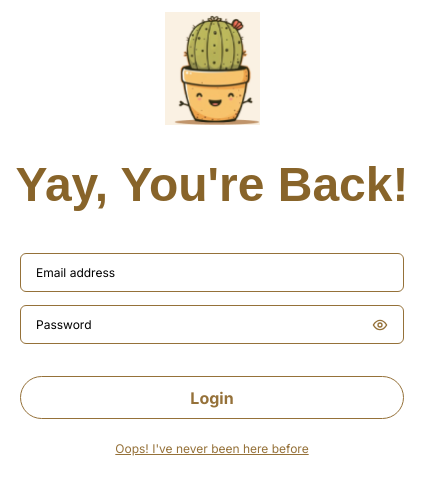
LoginPage › shows email validation error for invalid email
This screenshot has width=421, height=495.
In the field labelled "Email address": (212, 273) [36,264,388,282], type "notanemail"
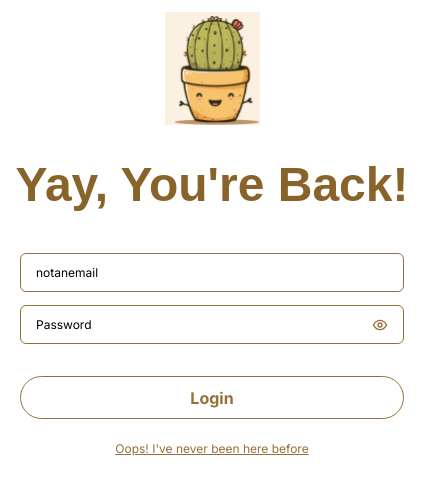
In the password field labelled "Password": (200, 325) [36,316,364,334], type "validpassword123"
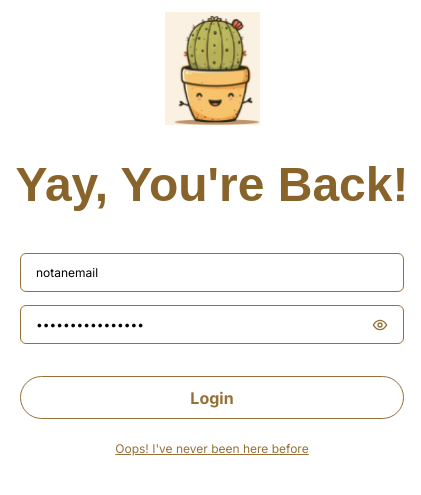
Click the button "Login": click(212, 398) [20,376,404,419]
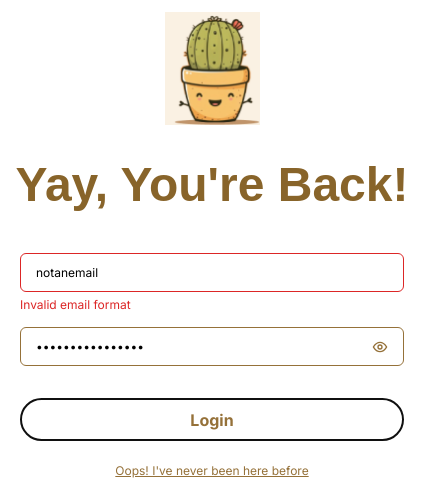
Expected: the text "Invalid email format" is shown, [20,296,131,314]
